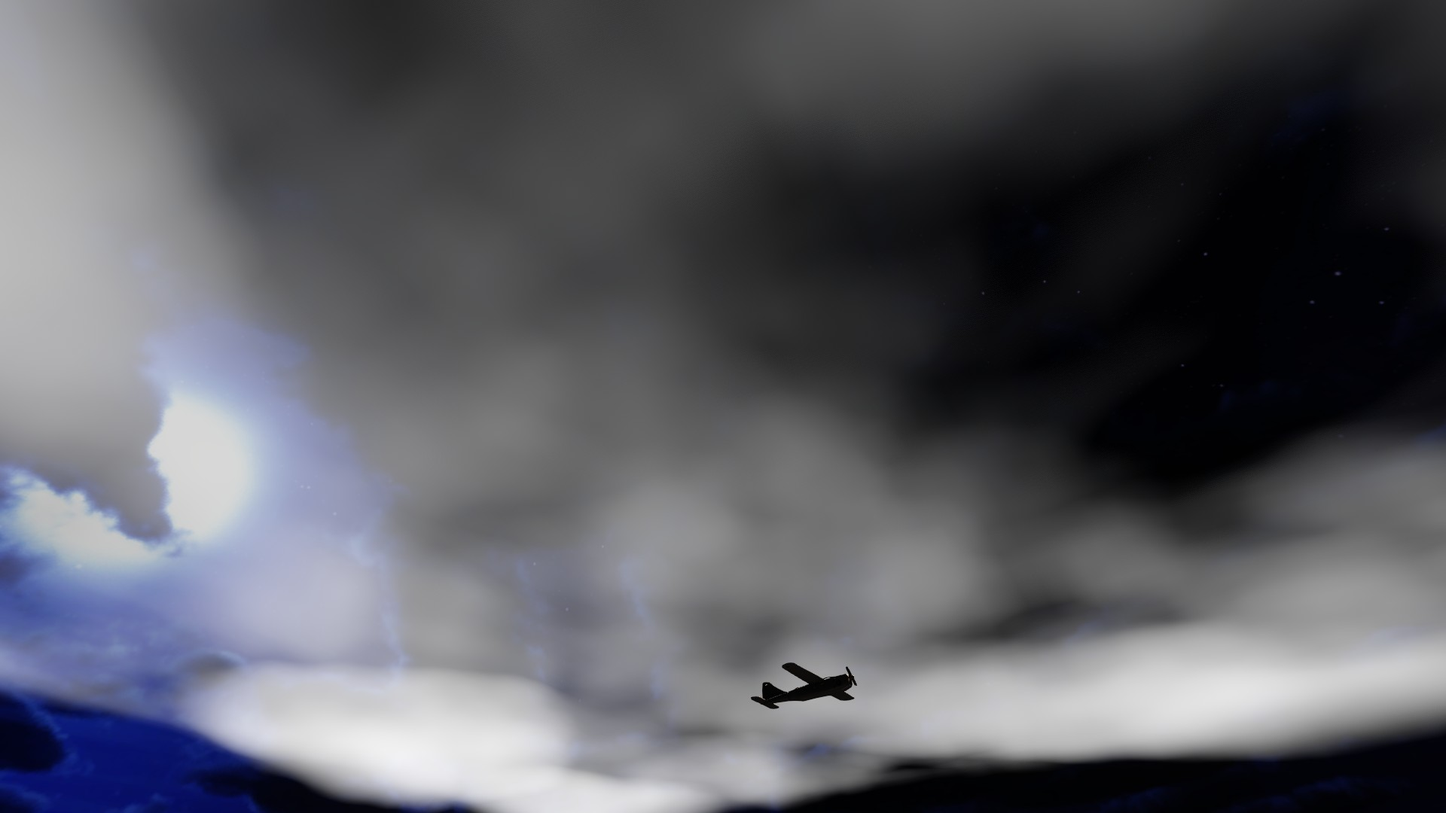drone_other: (750, 662, 857, 709)
